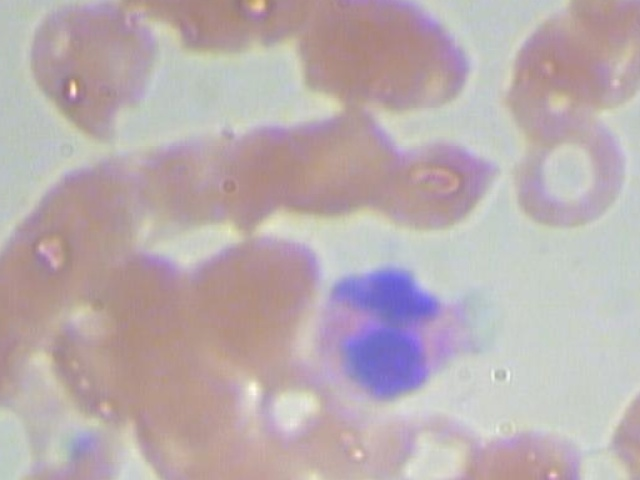RBC: (14, 0, 167, 148), (295, 0, 481, 117), (264, 100, 402, 229), (492, 3, 621, 138), (181, 226, 322, 339), (505, 115, 640, 229), (379, 127, 507, 238), (249, 355, 349, 457), (364, 401, 489, 480), (459, 420, 587, 480), (601, 368, 640, 480)
WBC: (310, 264, 482, 409)
